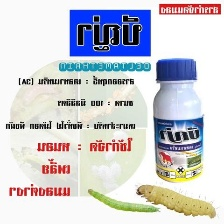insecticide: (151, 55, 206, 187)
